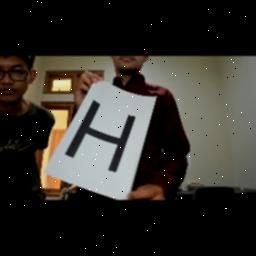h: (66, 96, 136, 172)
